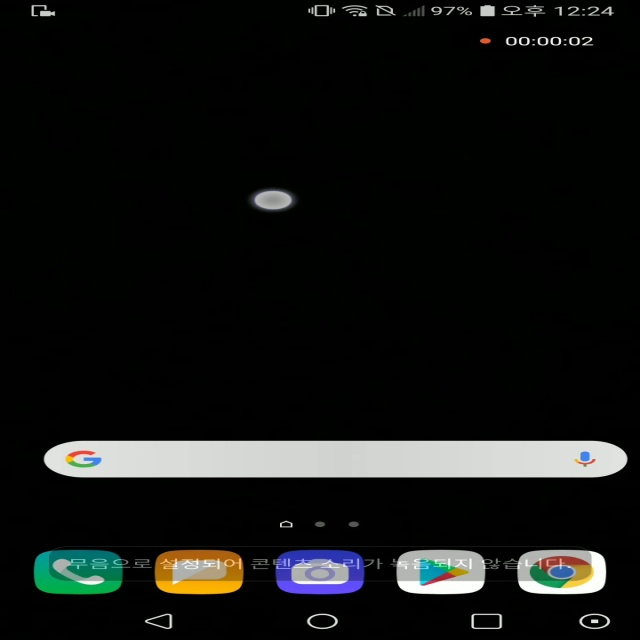Cursor: (251, 190, 296, 212)
